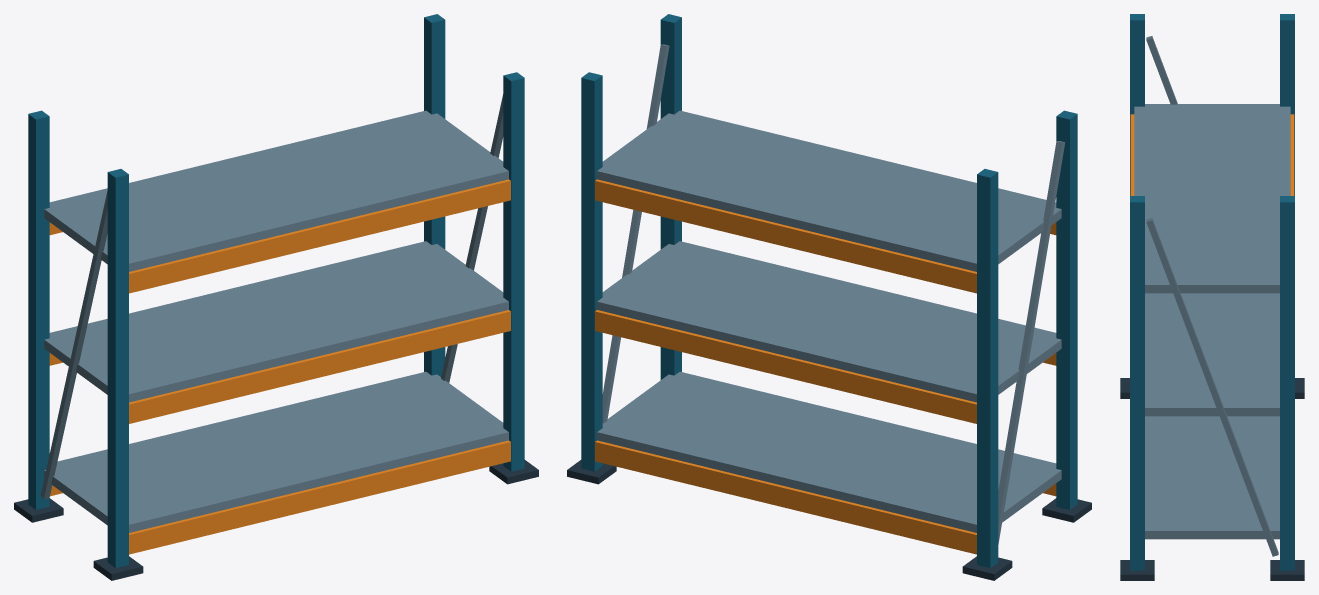
Rendered from rack.66531ad97d34.glb.
The picture shows the model from 3 angles, left to right: view 1: azimuth 30°, elevation 25°; view 2: azimuth 150°, elevation 25°; view 3: azimuth 270°, elevation 25°; orthographic projection. The views are drawn at different scales.
Visible parts, largest first — view 1: shelf_0011, shelf_0014, shelf_0017, rack_post_0003, load_beam_0016, load_beam_0010, load_beam_0013, rack_post_0001, rack_post_0007, rack_post_0005, cross_brace_0018, cross_brace_0019 (+3 smaller); view 2: shelf_0017, shelf_0014, shelf_0011, rack_post_0001, load_beam_0015, load_beam_0009, load_beam_0012, rack_post_0003, rack_post_0005, cross_brace_0018, rack_post_0007, cross_brace_0019 (+3 smaller); view 3: shelf_0017, shelf_0014, shelf_0011, rack_post_0005, rack_post_0007, cross_brace_0019, rack_post_0001, rack_post_0003, foot_0006, foot_0008, cross_brace_0018, load_beam_0015 (+1 smaller).
Boxes of the visible parts, box(x1,y1,x2,y2) form: shelf_0011: box(44, 371, 508, 532); shelf_0014: box(44, 241, 508, 402); shelf_0017: box(44, 110, 508, 271); rack_post_0003: box(107, 169, 128, 568); load_beam_0016: box(129, 179, 510, 293); load_beam_0010: box(129, 440, 510, 554); load_beam_0013: box(129, 310, 510, 423); rack_post_0001: box(28, 110, 49, 509); rack_post_0007: box(503, 72, 524, 471); rack_post_0005: box(424, 14, 445, 376); cross_brace_0018: box(41, 191, 107, 499); cross_brace_0019: box(441, 94, 503, 382); shelf_0017: box(597, 110, 1061, 271); shelf_0014: box(597, 241, 1061, 402); shelf_0011: box(597, 371, 1061, 532); rack_post_0001: box(977, 169, 998, 568); load_beam_0015: box(595, 179, 976, 293); load_beam_0009: box(595, 440, 976, 554); load_beam_0012: box(595, 310, 976, 423); rack_post_0003: box(1056, 110, 1077, 509); rack_post_0005: box(581, 72, 602, 471); cross_brace_0018: box(998, 141, 1065, 544); rack_post_0007: box(660, 14, 681, 379); cross_brace_0019: box(602, 44, 669, 423); shelf_0017: box(1134, 104, 1290, 293); shelf_0014: box(1145, 293, 1279, 416); shelf_0011: box(1145, 416, 1279, 539); rack_post_0005: box(1280, 196, 1294, 570); rack_post_0007: box(1130, 196, 1144, 570); cross_brace_0019: box(1146, 218, 1278, 556); rack_post_0001: box(1280, 14, 1294, 195); rack_post_0003: box(1130, 14, 1144, 195); foot_0006: box(1270, 560, 1304, 580); foot_0008: box(1120, 560, 1154, 580); cross_brace_0018: box(1146, 36, 1177, 104); load_beam_0015: box(1290, 114, 1294, 195).
Bounding box in the file's own units: 2.98 × 2.65 × 1.18.
